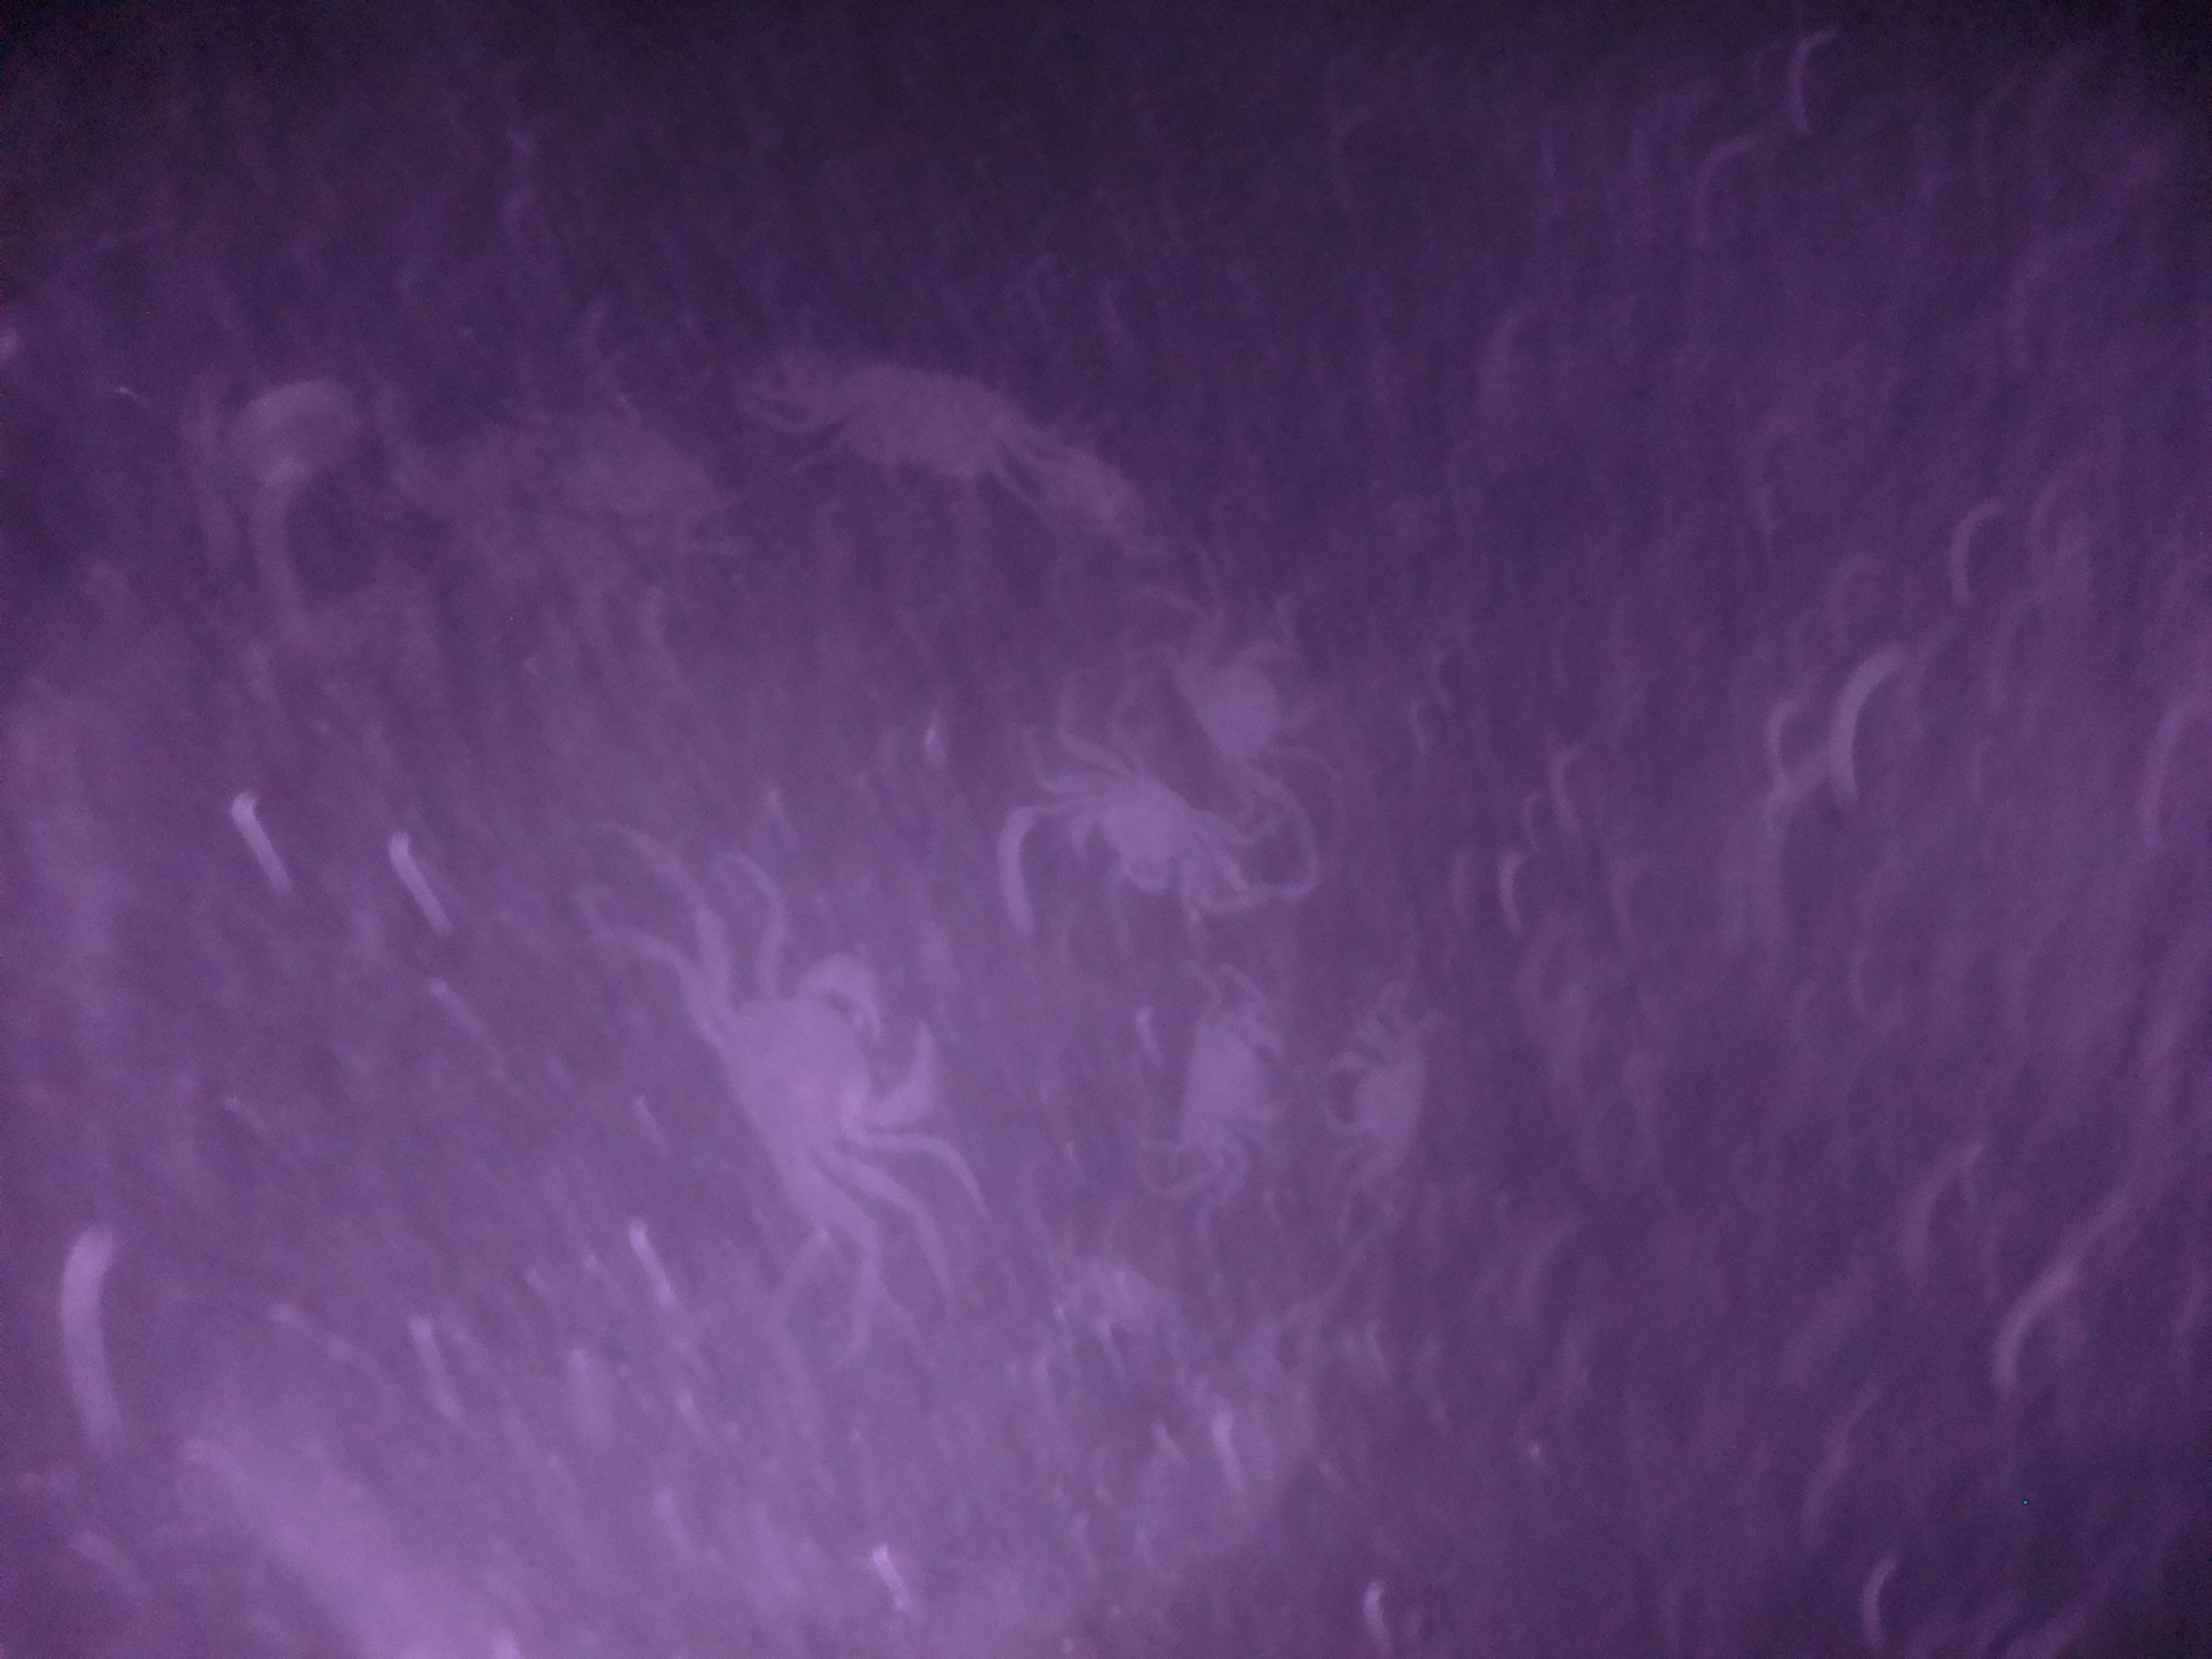Crab: (686, 929, 970, 1222), (768, 345, 1059, 500), (1144, 955, 1306, 1195), (1024, 727, 1223, 904), (1317, 990, 1458, 1185)
